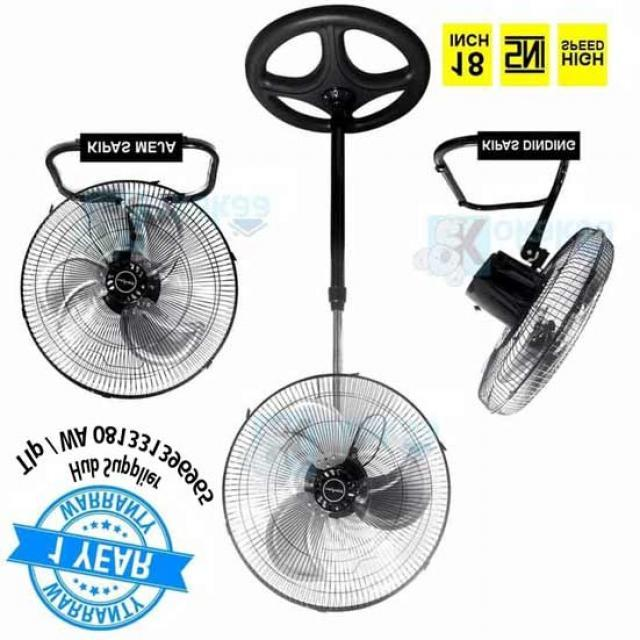fan: (227, 8, 450, 612)
